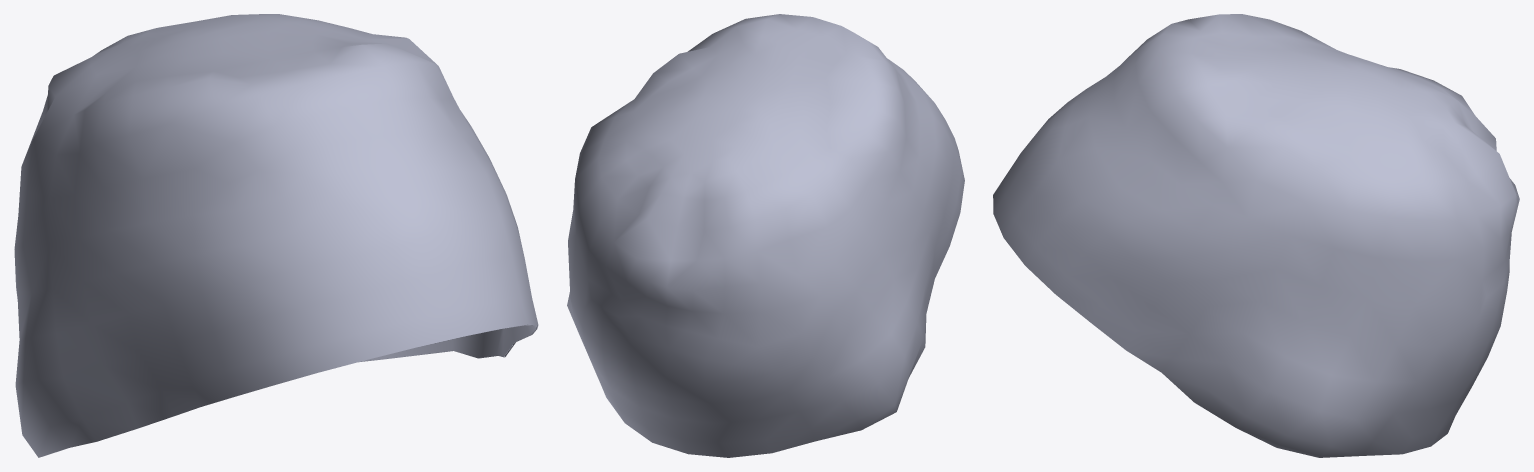
The model's file is Cap.fbx.
3 views of the same model, side by side, from view 1: azimuth 30°, elevation 25°; view 2: azimuth 150°, elevation 25°; view 3: azimuth 270°, elevation 25° (orthographic). The views are drawn at different scales.
Parts seen in each view (by area): view 1: Cap; view 2: Cap; view 3: Cap.
Part boxes in pixels (x1,y1,x2,y2): Cap: (14,14,538,457); Cap: (567,14,964,457); Cap: (993,14,1519,457).
Bounding box in the file's own units: 18.91 × 18.51 × 23.69.
